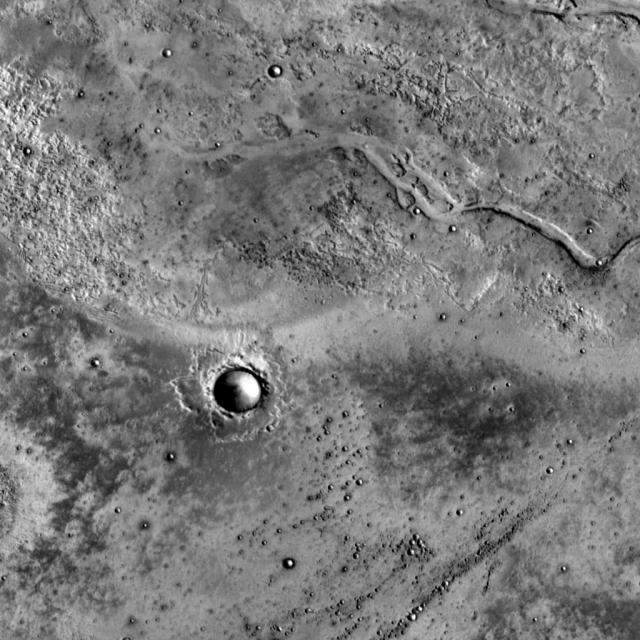crater: (222, 368, 270, 412), (278, 65, 290, 76), (292, 557, 302, 567), (418, 206, 428, 214), (171, 48, 180, 56), (100, 358, 109, 366), (414, 612, 423, 620), (454, 224, 463, 232), (174, 450, 182, 458), (408, 530, 415, 538), (30, 147, 37, 154), (553, 466, 561, 472), (362, 478, 370, 484), (414, 548, 422, 554), (595, 251, 603, 257), (128, 635, 137, 640), (411, 600, 418, 606), (274, 422, 281, 428)
